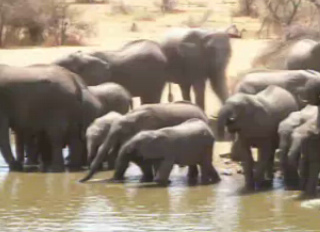elephant: (1, 56, 93, 177), (88, 101, 215, 187), (205, 84, 303, 189), (162, 21, 245, 128), (58, 43, 173, 120), (111, 117, 222, 192)
